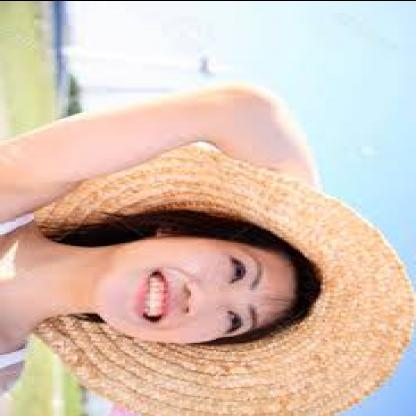hat: (30, 142, 414, 414)
